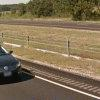Car: (2, 41, 25, 86)
